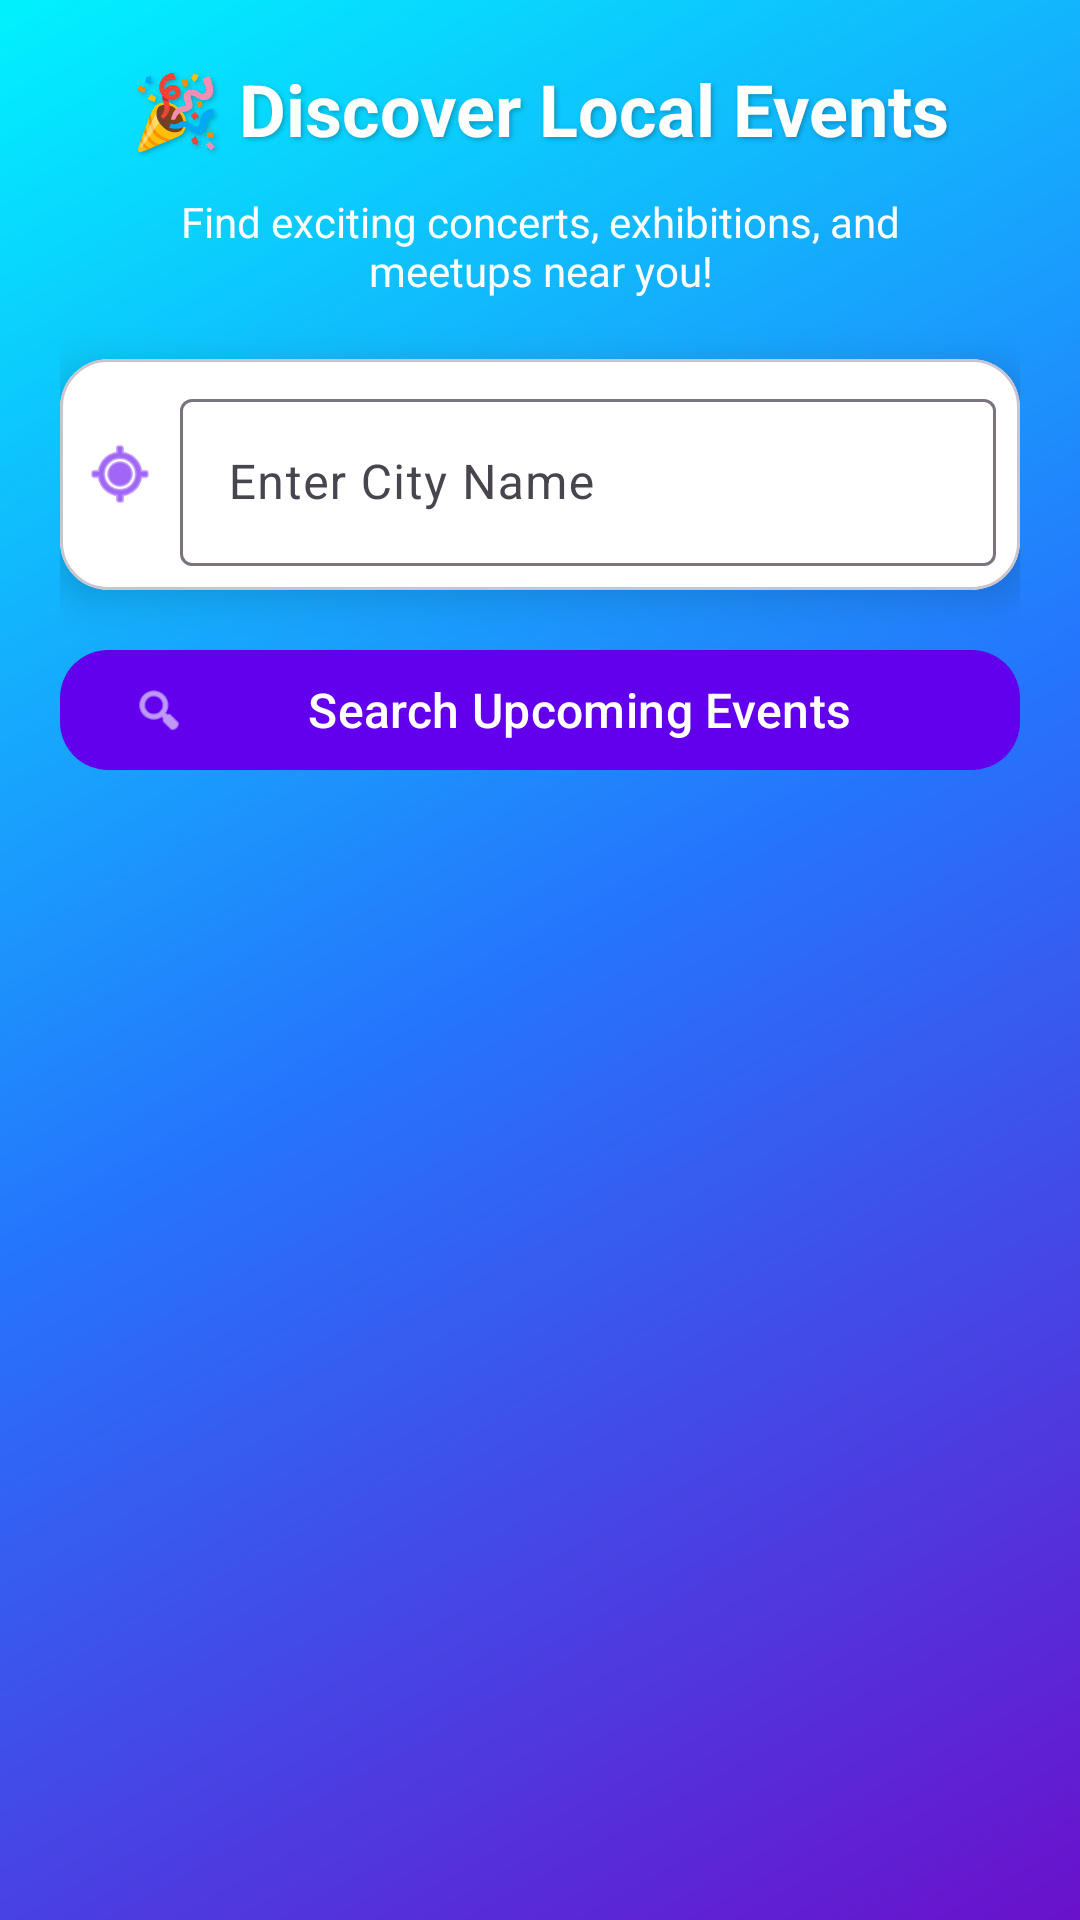

Named icons in this screenshot (1080w x 1920h) and their centers, (x,y):
mylocation: (120,474)
